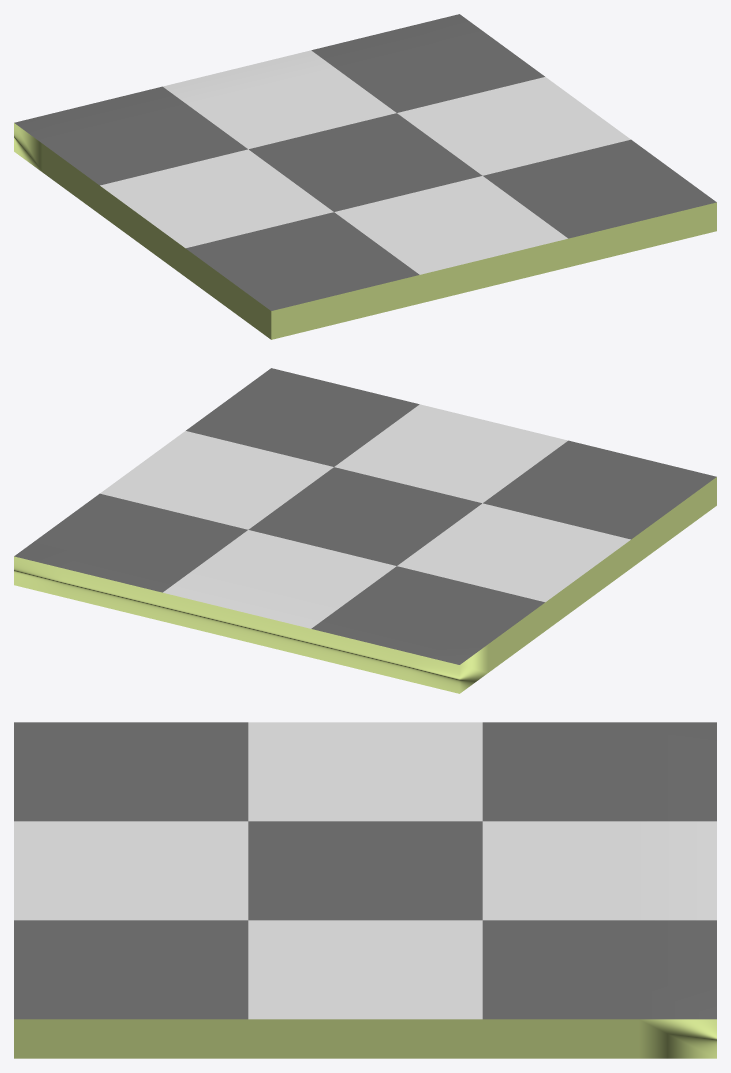
3 views of the same model, one above another, from view 1: azimuth 30°, elevation 25°; view 2: azimuth 150°, elevation 25°; view 3: azimuth 270°, elevation 25° (orthographic). The views are drawn at different scales.
Visible parts, largest first — view 1: PLANE; view 2: PLANE; view 3: PLANE.
Part boxes in pixels (left/top/right/bottom): PLANE: left=14, top=14, right=716, bottom=339; PLANE: left=14, top=368, right=716, bottom=693; PLANE: left=14, top=722, right=716, bottom=1058.
Bounding box in the file's own units: 879 × 54.28 × 879.
